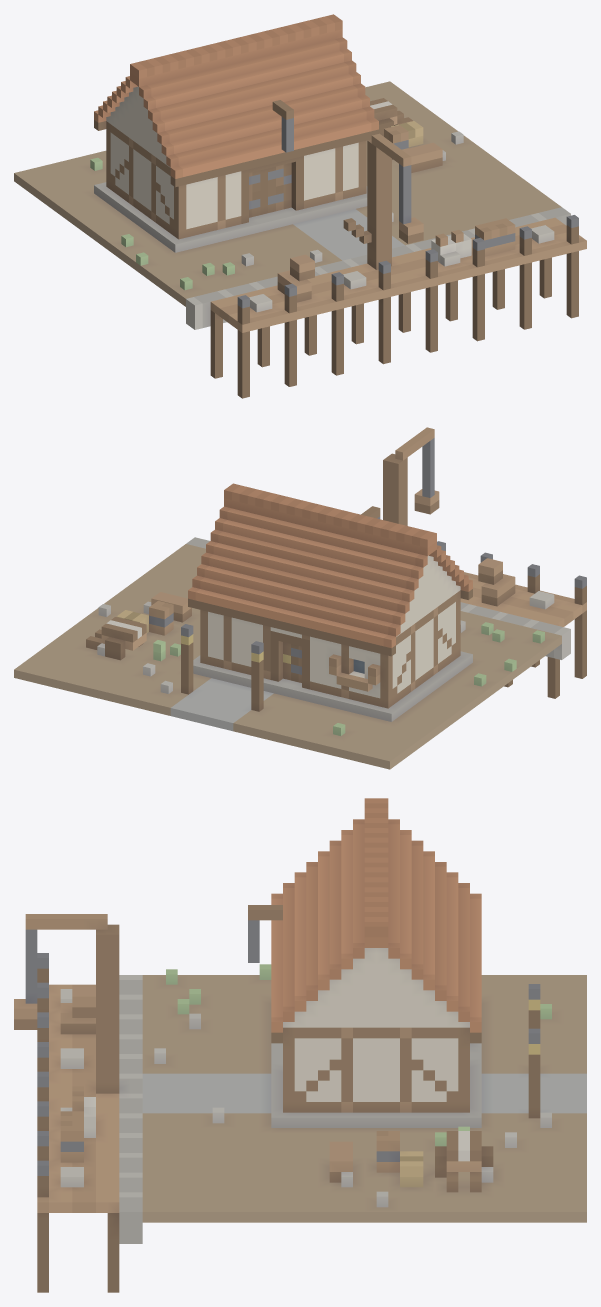
The model's file is trading_post.l2.glb.
The picture shows the model from 3 angles, top to bottom: view 1: azimuth 30°, elevation 25°; view 2: azimuth 150°, elevation 25°; view 3: azimuth 270°, elevation 25°; orthographic projection. The views are drawn at different scales.
Visible parts, largest first — view 1: trading_post; view 2: trading_post; view 3: trading_post.
Boxes of the visible parts, bbox=[...] form: trading_post: bbox=[14, 14, 586, 398]; trading_post: bbox=[14, 427, 586, 769]; trading_post: bbox=[14, 798, 586, 1292].
Bounding box in the file's own units: 6 × 3.5 × 6.12.
